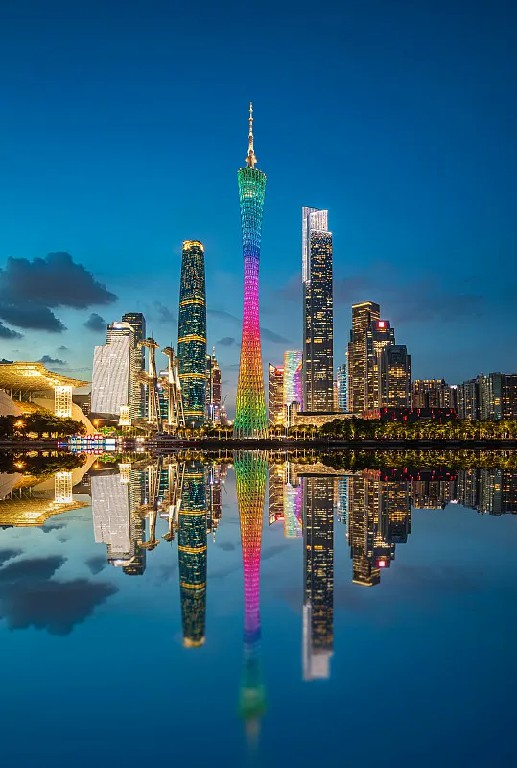Canton: (228, 99, 273, 441)
